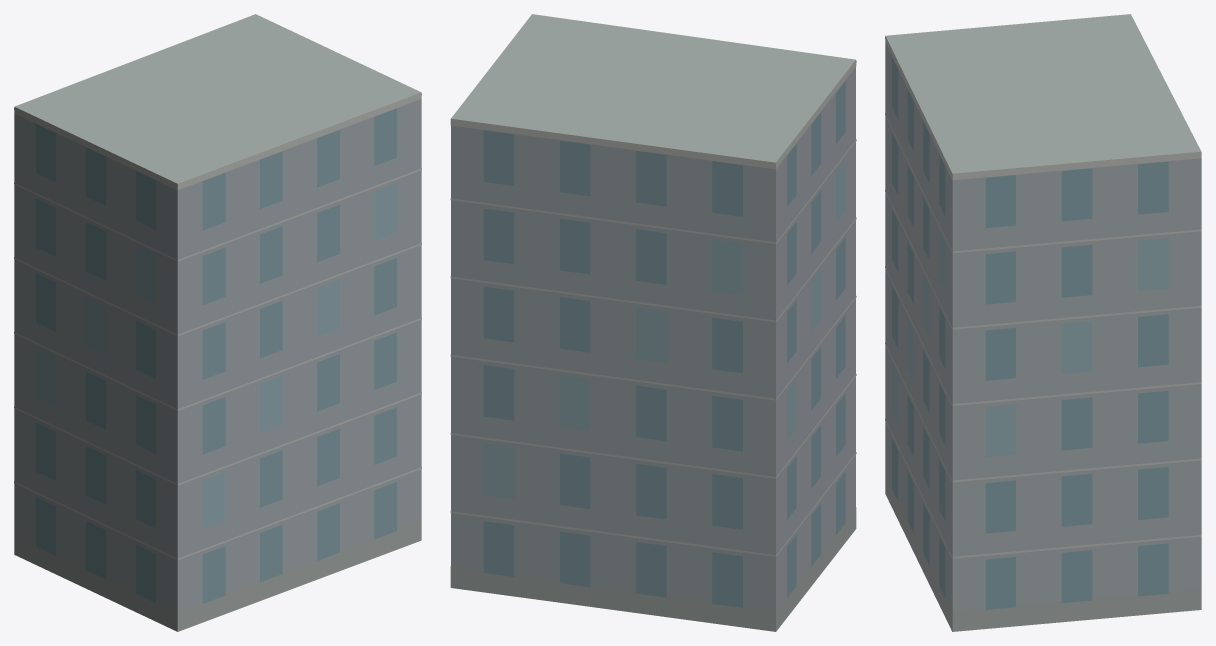
Rendered from survey-upis-32970931.glb.
The picture shows the model from 3 angles, left to right: view 1: azimuth 30°, elevation 25°; view 2: azimuth 150°, elevation 25°; view 3: azimuth 270°, elevation 25°; orthographic projection. The views are drawn at different scales.
Visible parts, largest first — view 1: survey-upis-32970931.tmp; view 2: survey-upis-32970931.tmp; view 3: survey-upis-32970931.tmp.
Boxes of the visible parts, x1=… form: survey-upis-32970931.tmp: x1=14, y1=14, x2=421, y2=631; survey-upis-32970931.tmp: x1=450, y1=14, x2=856, y2=631; survey-upis-32970931.tmp: x1=885, y1=14, x2=1201, y2=631.
Bounding box in the file's own units: 12.74 × 17 × 10.66.
